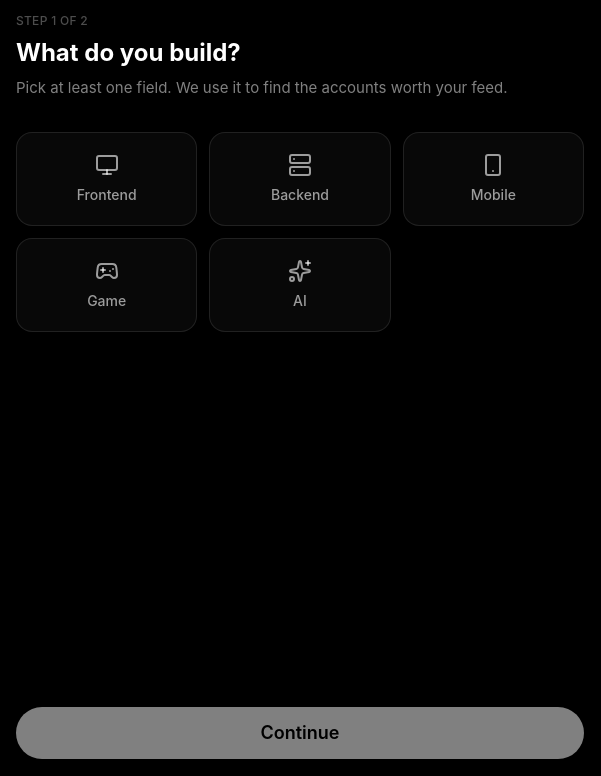
Test: OnboardingPage › will not continue until a field is picked
Check: the button "Continue" is disabled, box [16, 707, 584, 759]
Click the button "Backend" at [300, 178], box [209, 132, 391, 226]
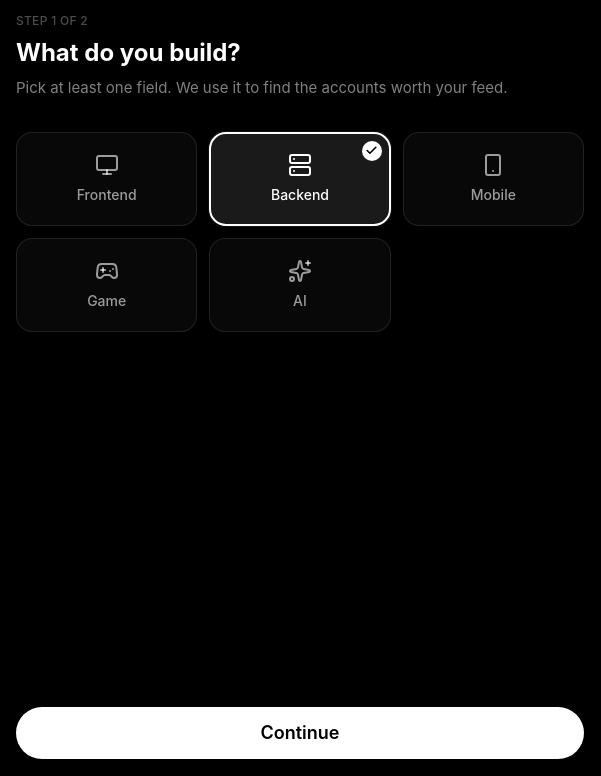
Check: the button "Continue" is enabled, box [16, 707, 584, 759]
